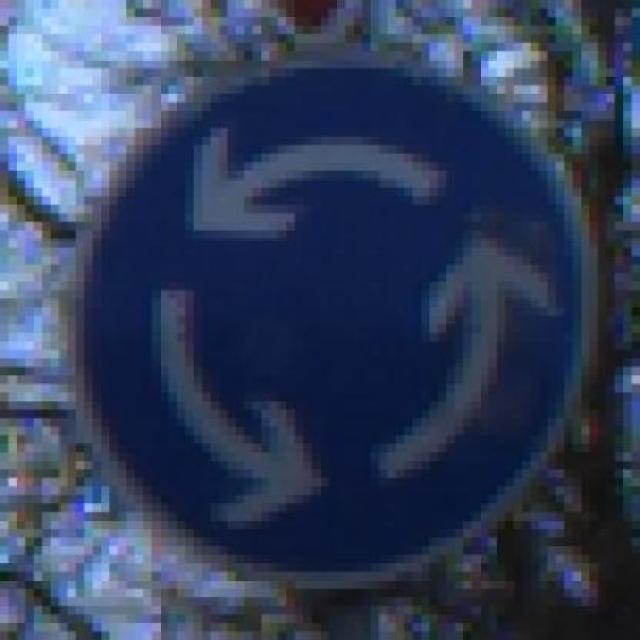Round-About: (50, 42, 607, 598)
